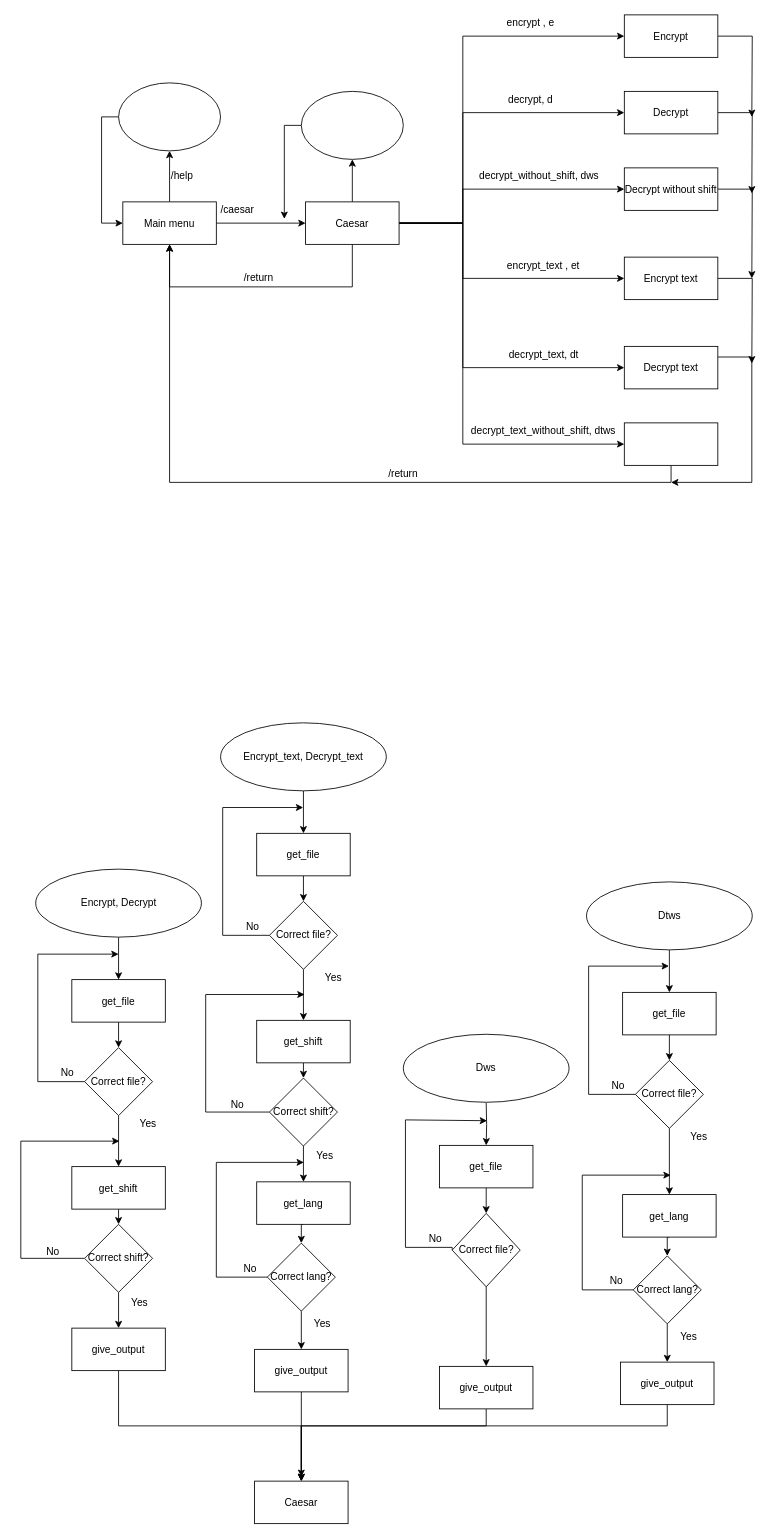
This 774x1539 diagram has some shape labels left out. The centre of each missing label's shape, as x and y in pixels:
"Decrypt text without shift" belongs at (670,443).
"Show help (Caesar) text" belongs at (351,125).
"Show help text" belongs at (169,116).
